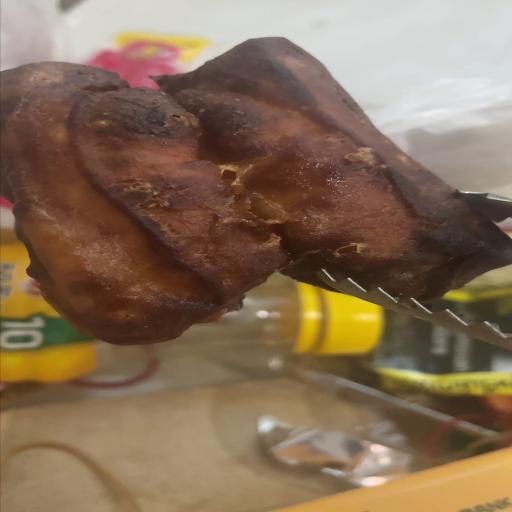street_burnt_defect: (0, 38, 512, 344)
